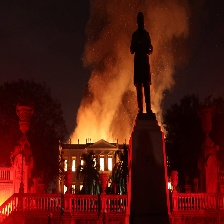fire: (62, 154, 123, 175)
smoke: (76, 6, 189, 137)
